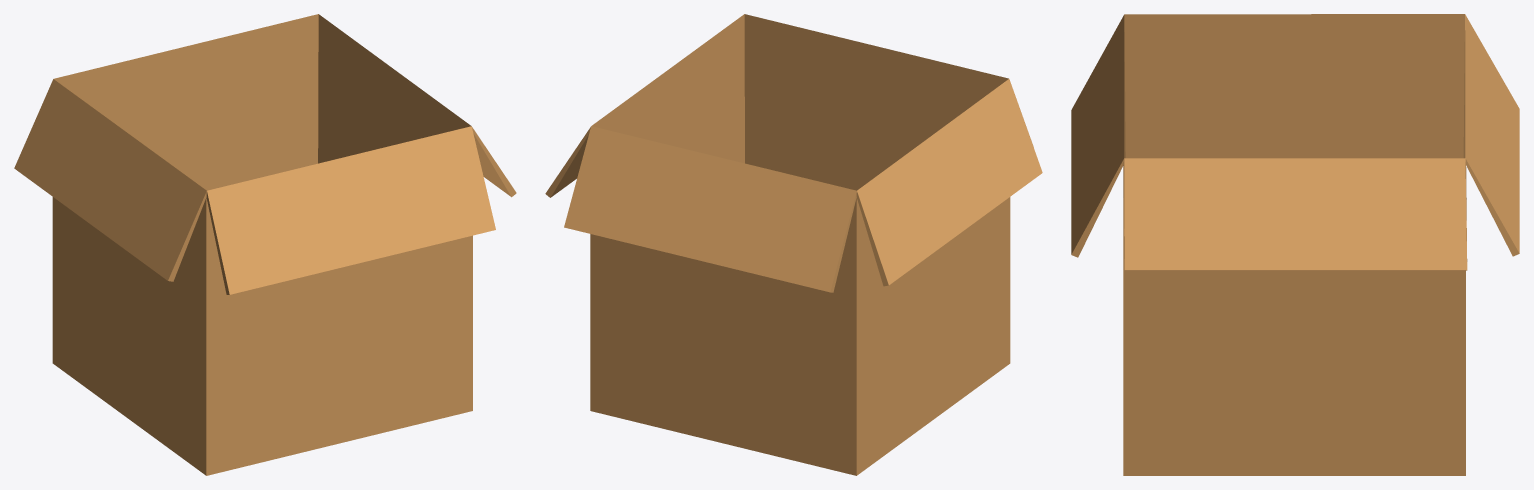
File: Cajafbx.fbx
3 views of the same model, side by side, from view 1: azimuth 30°, elevation 25°; view 2: azimuth 150°, elevation 25°; view 3: azimuth 270°, elevation 25° (orthographic). The views are drawn at different scales.
Visible parts, largest first — view 1: Caja_de_Carton; view 2: Caja_de_Carton; view 3: Caja_de_Carton.
Part boxes in pixels (bbox=[...]): Caja_de_Carton: bbox=[14, 14, 516, 475]; Caja_de_Carton: bbox=[545, 14, 1042, 475]; Caja_de_Carton: bbox=[1071, 14, 1519, 475].
Bounding box in the file's own units: 5934 × 4664 × 5974.
